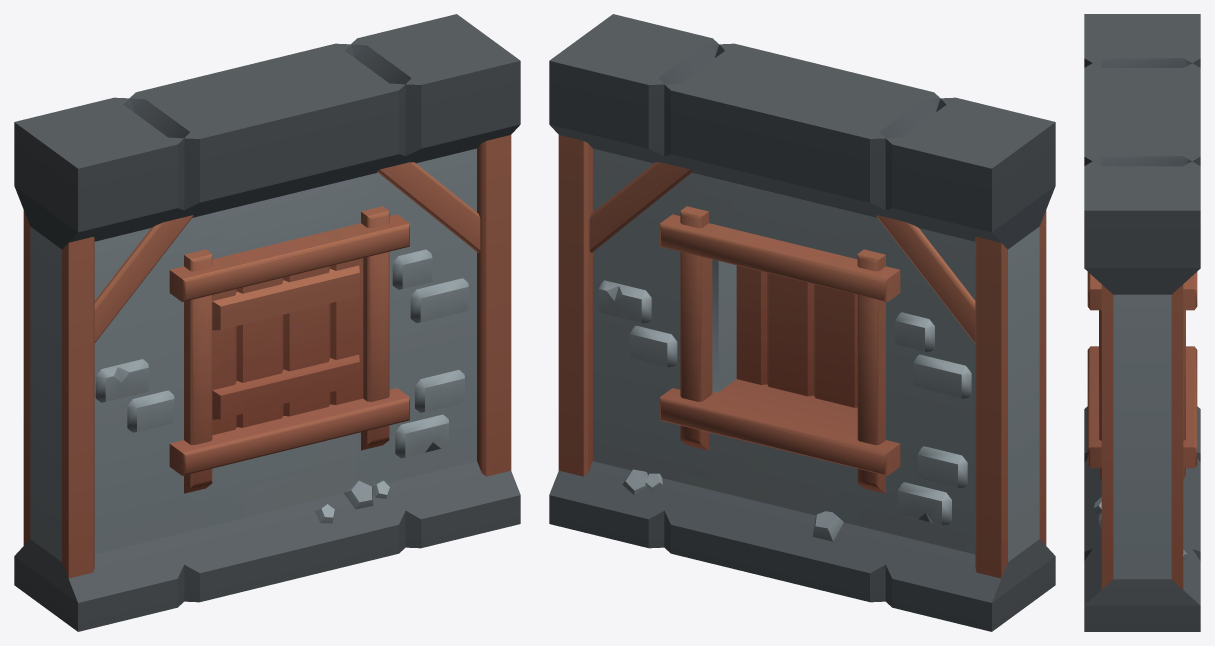
Rendered from kaykit-dungeon-remastered-wall-window-closed-scaffold-gltf.glb.
3 renders of one model, left to right at view 1: azimuth 30°, elevation 25°; view 2: azimuth 150°, elevation 25°; view 3: azimuth 270°, elevation 25°, orthographic. The views are drawn at different scales.
Parts seen in each view (by area): view 1: wall_window_closed_scaffold; view 2: wall_window_closed_scaffold; view 3: wall_window_closed_scaffold.
Part boxes in pixels (bbox=[...]): wall_window_closed_scaffold: bbox=[14, 14, 520, 631]; wall_window_closed_scaffold: bbox=[549, 14, 1055, 631]; wall_window_closed_scaffold: bbox=[1084, 14, 1200, 631].
Bounding box in the file's own units: 4 × 4 × 1.
Materials: 1 (1 with a texture image).
